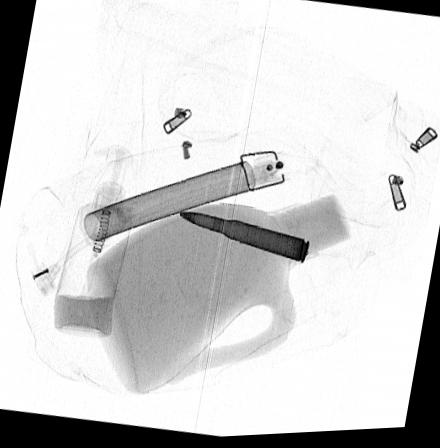Bullet: (176, 213, 308, 266)
